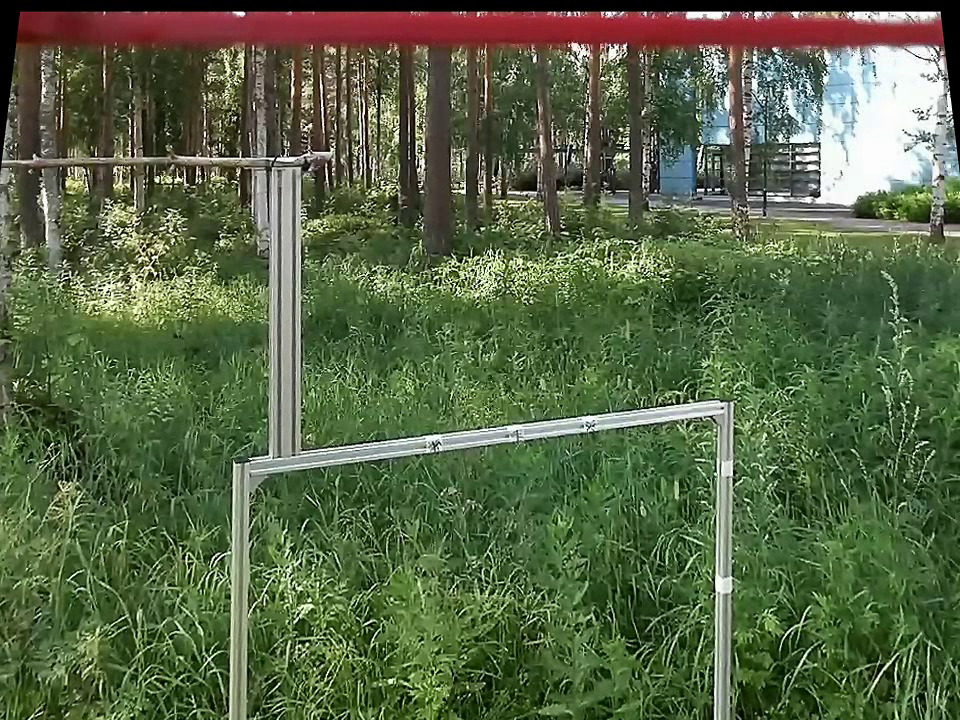aluminum_frame: (252, 393, 723, 480), (260, 169, 306, 456), (710, 392, 735, 716), (224, 455, 252, 716)
branch: (3, 135, 266, 175)
